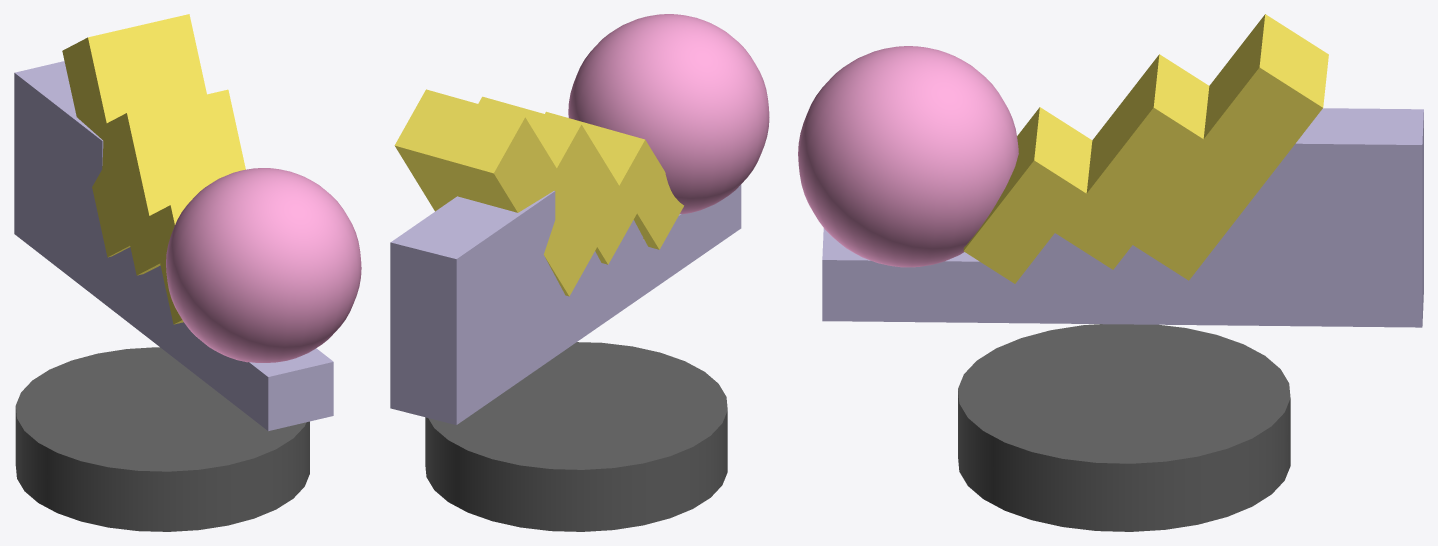
File: tacobell.glb
3 views of the same model, side by side, from view 1: azimuth 30°, elevation 25°; view 2: azimuth 150°, elevation 25°; view 3: azimuth 270°, elevation 25° (orthographic). The views are drawn at different scales.
Parts seen in each view (by area): view 1: 006_Cylinder_-_baked_4, 025_Sphere_1, 027_Box_2_&_Box_1_&_Box_6, 026_Box_3_&_Box_4_&_Box_5_&_Box_7_&_Box_8_&_Box_9; view 2: 006_Cylinder_-_baked_4, 027_Box_2_&_Box_1_&_Box_6, 026_Box_3_&_Box_4_&_Box_5_&_Box_7_&_Box_8_&_Box_9, 025_Sphere_1; view 3: 027_Box_2_&_Box_1_&_Box_6, 006_Cylinder_-_baked_4, 026_Box_3_&_Box_4_&_Box_5_&_Box_7_&_Box_8_&_Box_9, 025_Sphere_1.
Boxes of the visible parts, x1=… form: 006_Cylinder_-_baked_4: x1=15, y1=347, x2=309, y2=531; 025_Sphere_1: x1=166, y1=168, x2=361, y2=362; 027_Box_2_&_Box_1_&_Box_6: x1=14, y1=61, x2=333, y2=430; 026_Box_3_&_Box_4_&_Box_5_&_Box_7_&_Box_8_&_Box_9: x1=62, y1=14, x2=245, y2=324; 006_Cylinder_-_baked_4: x1=425, y1=342, x2=727, y2=531; 027_Box_2_&_Box_1_&_Box_6: x1=390, y1=184, x2=741, y2=424; 026_Box_3_&_Box_4_&_Box_5_&_Box_7_&_Box_8_&_Box_9: x1=394, y1=89, x2=683, y2=296; 025_Sphere_1: x1=568, y1=14, x2=769, y2=214; 027_Box_2_&_Box_1_&_Box_6: x1=822, y1=108, x2=1423, y2=327; 006_Cylinder_-_baked_4: x1=958, y1=324, x2=1290, y2=531; 026_Box_3_&_Box_4_&_Box_5_&_Box_7_&_Box_8_&_Box_9: x1=963, y1=14, x2=1328, y2=283; 025_Sphere_1: x1=798, y1=46, x2=1018, y2=267.
Size of the model in its own units: 17.33 by 25.37 by 32.57.
